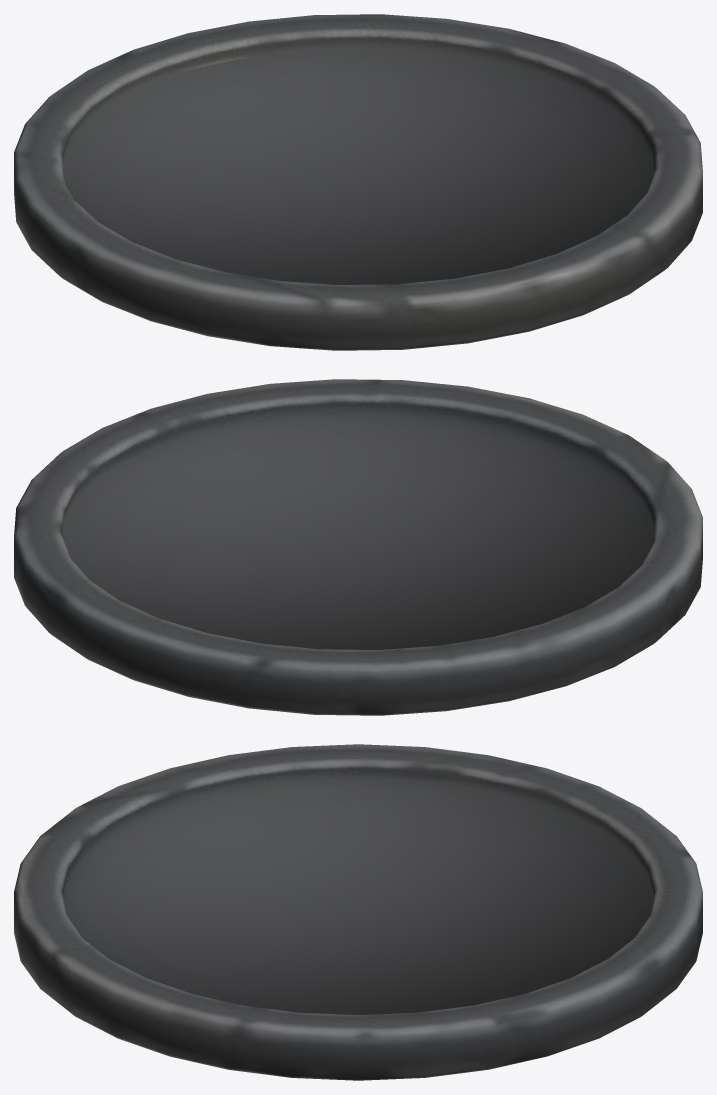
The picture shows the model from 3 angles, top to bottom: view 1: azimuth 30°, elevation 25°; view 2: azimuth 150°, elevation 25°; view 3: azimuth 270°, elevation 25°; orthographic projection.
Parts seen in each view (by area): view 1: Cylinder; view 2: Cylinder; view 3: Cylinder.
Boxes of the visible parts, x1,y1,x2,y2 form: Cylinder: (14, 14, 702, 350); Cylinder: (14, 379, 702, 715); Cylinder: (14, 744, 702, 1080).
Size of the model in its own units: 7.49 by 0.587 by 7.49.
Materials: 1 (1 with a texture image).
